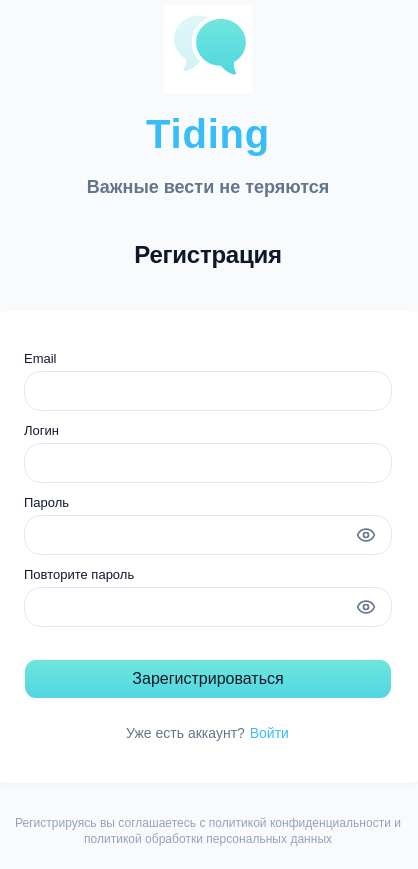
Test: RegisterPage › shows conflict when username is taken
Step 1. Type "alice_1" into the field labelled "Логин" → (208, 463), box [24,443,392,483]
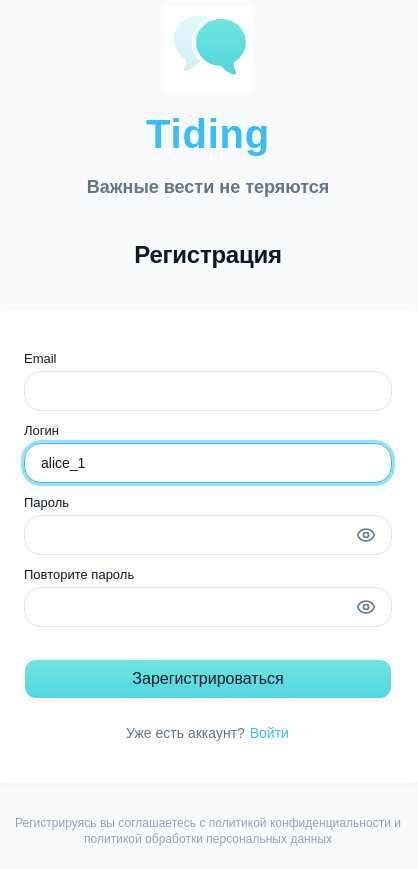
Step 2. Type "correct-horse-battery" into the password field labelled "Пароль" → (208, 535), box [24,515,392,555]
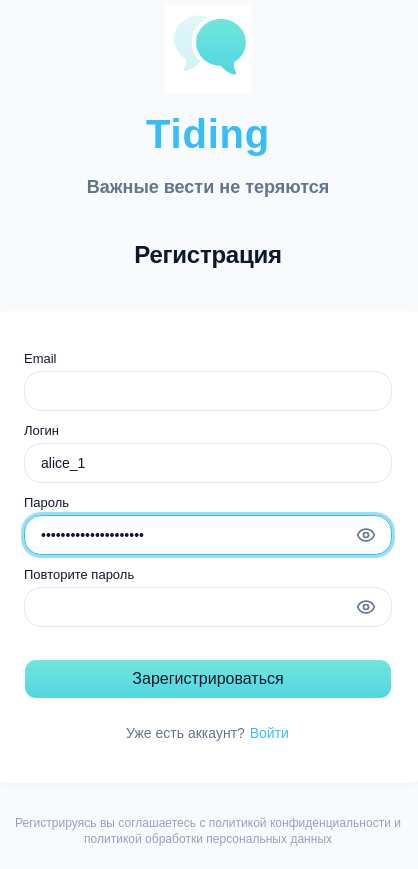
Step 3. Type "correct-horse-battery" into the password field labelled "Повторите пароль" → (208, 607), box [24,587,392,627]
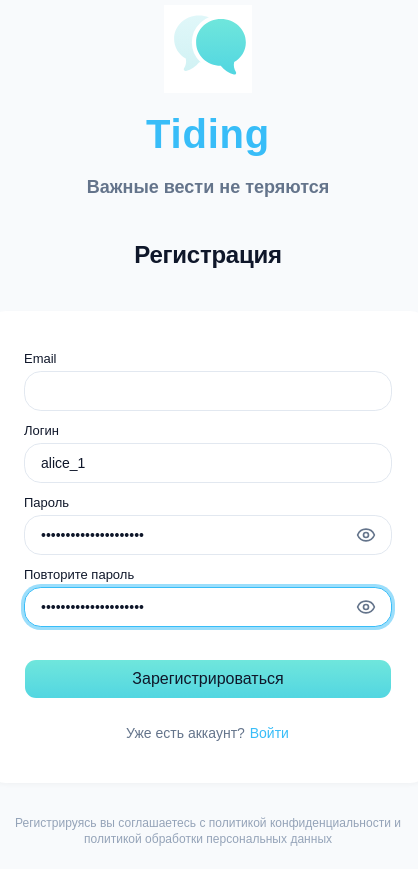
Step 4. Click the button "Зарегистрироваться" → (208, 679), box [24,659,392,699]
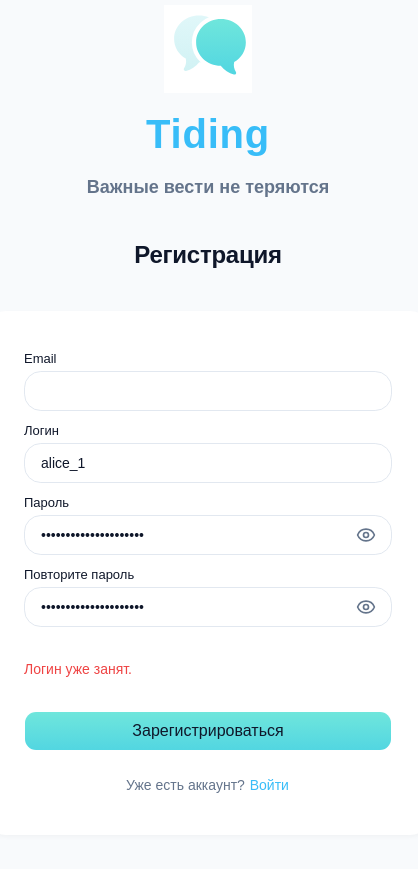
Check: the message shows "Логин уже занят", box [24,661,132,677]
